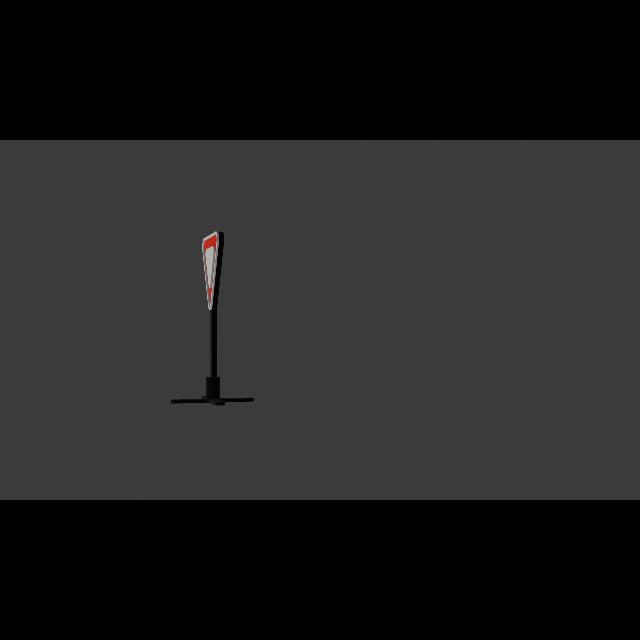sign_yield: (202, 232, 220, 311)
